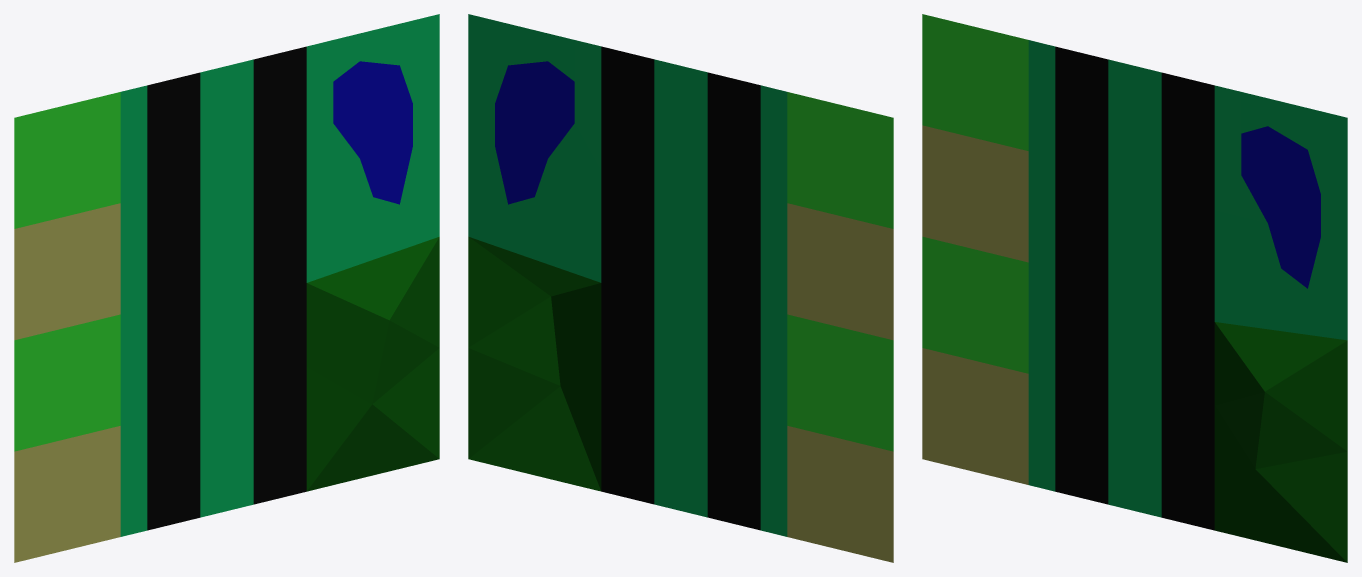
Rendered from tiles1_53.obj.
3 renders of one model, left to right at view 1: azimuth 30°, elevation 25°; view 2: azimuth 150°, elevation 25°; view 3: azimuth 330°, elevation 25°, orthographic.
Visible parts, largest first — view 1: tiles1_53; view 2: tiles1_53; view 3: tiles1_53.
Part boxes in pixels (<box>): tiles1_53: <box>14,14,439,562</box>; tiles1_53: <box>468,14,893,562</box>; tiles1_53: <box>922,14,1347,562</box>.
Size of the model in its own units: 4.1 by 4.1 by 0.272.
